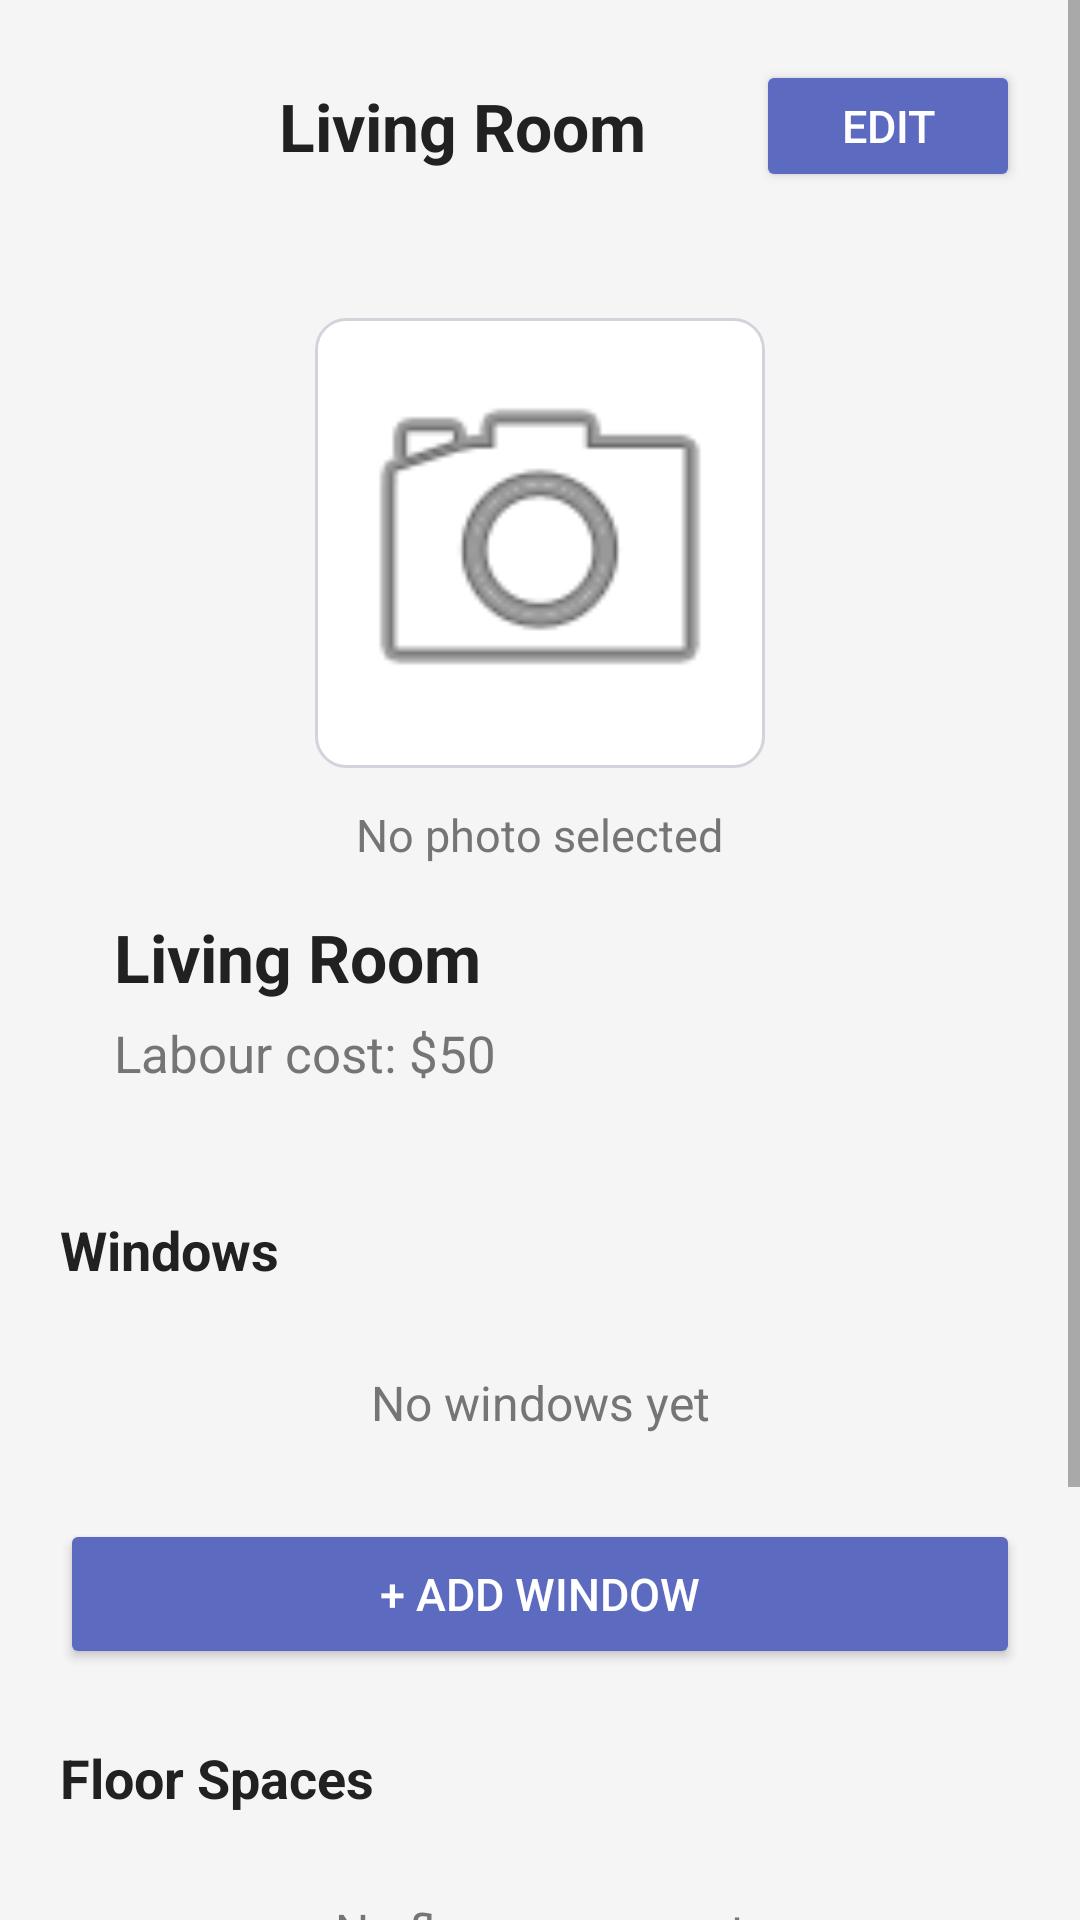

Where icons sit on this 1080w x 1920h app screen, as bbox=(x1, y1, x2, y2):
Room Photo Placeholder: bbox=(380, 409, 700, 664)
